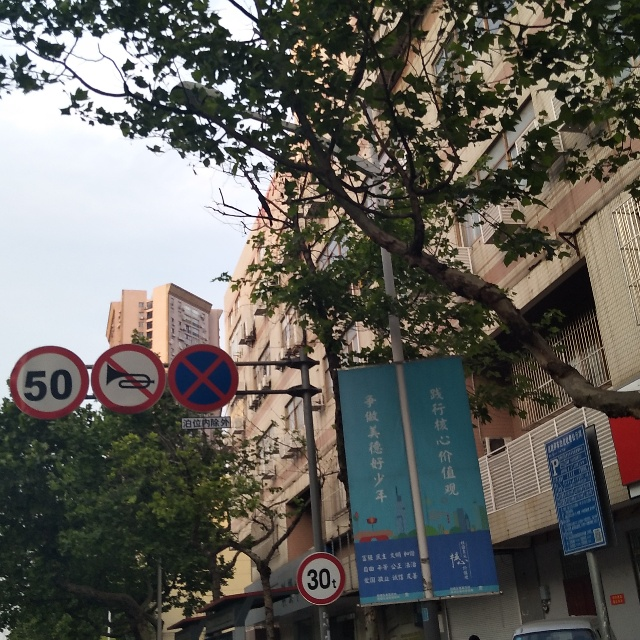nohonk: (101, 348, 157, 408)
stop: (179, 343, 235, 411)
